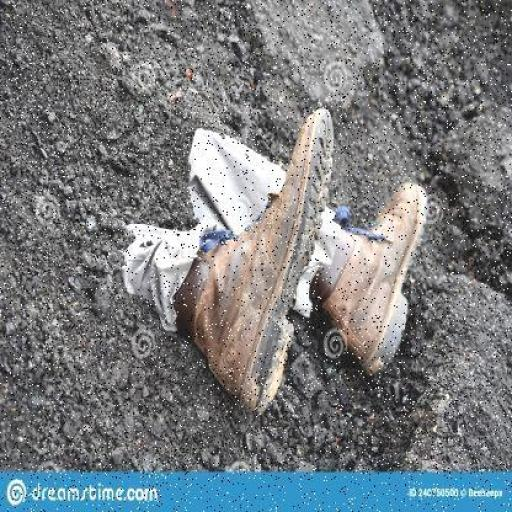safety_shoe: (192, 106, 324, 418), (340, 178, 423, 372)
